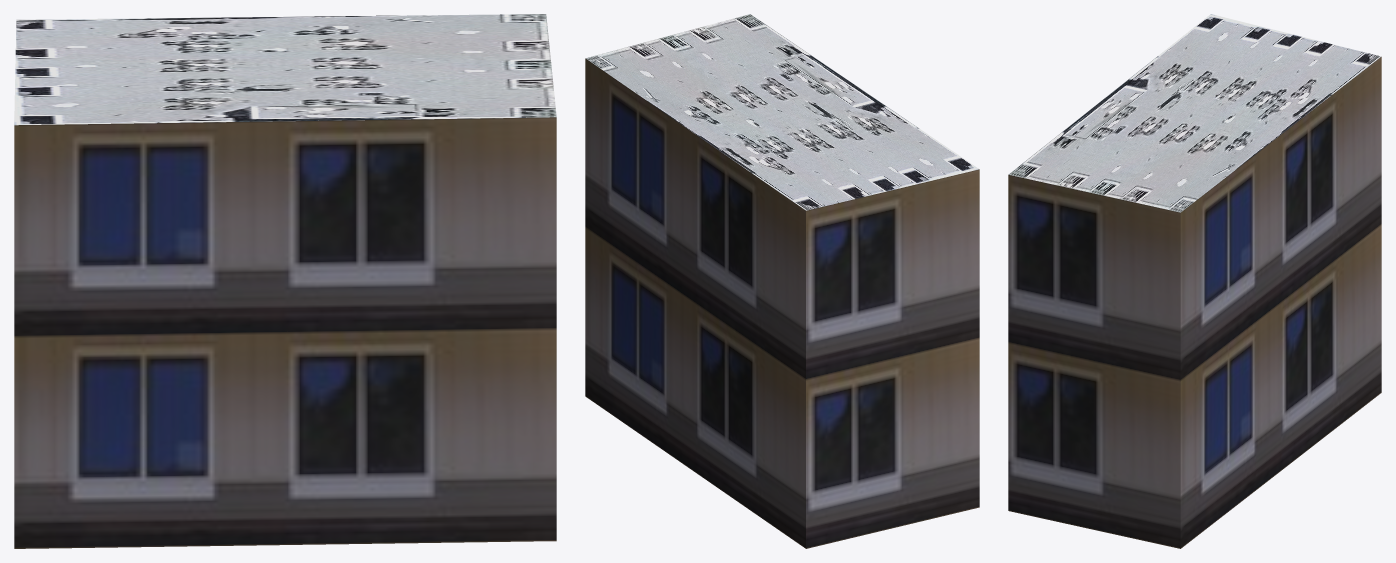
The model's file is ResTex__4047.fbx.
The picture shows the model from 3 angles, left to right: view 1: azimuth 30°, elevation 25°; view 2: azimuth 150°, elevation 25°; view 3: azimuth 270°, elevation 25°; orthographic projection. The views are drawn at different scales.
Parts seen in each view (by area): view 1: CityEngineMaterial_5_m, CityEngineMaterial_m; view 2: CityEngineMaterial_5_m, CityEngineMaterial_m; view 3: CityEngineMaterial_5_m, CityEngineMaterial_m.
Boxes of the visible parts, bbox=[...] form: CityEngineMaterial_5_m: bbox=[14, 117, 556, 548]; CityEngineMaterial_m: bbox=[14, 14, 556, 125]; CityEngineMaterial_5_m: bbox=[585, 58, 979, 548]; CityEngineMaterial_m: bbox=[586, 14, 978, 210]; CityEngineMaterial_5_m: bbox=[1008, 57, 1381, 548]; CityEngineMaterial_m: bbox=[1009, 14, 1381, 212].
Size of the model in its own units: 7.6 by 6 by 6.04.
2 materials, 2 textured.
